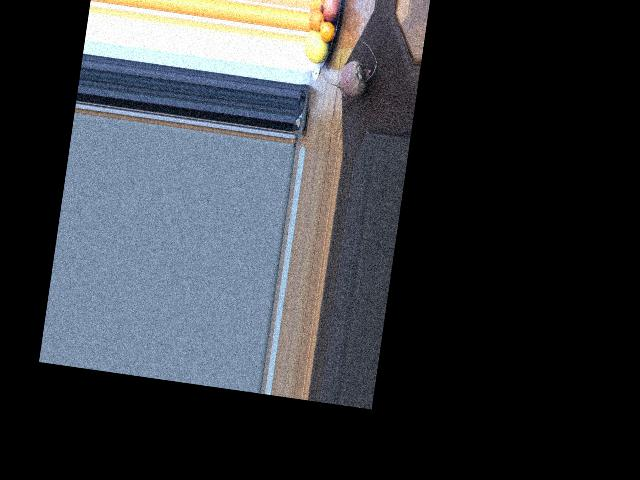beet: (320, 37, 380, 102)
